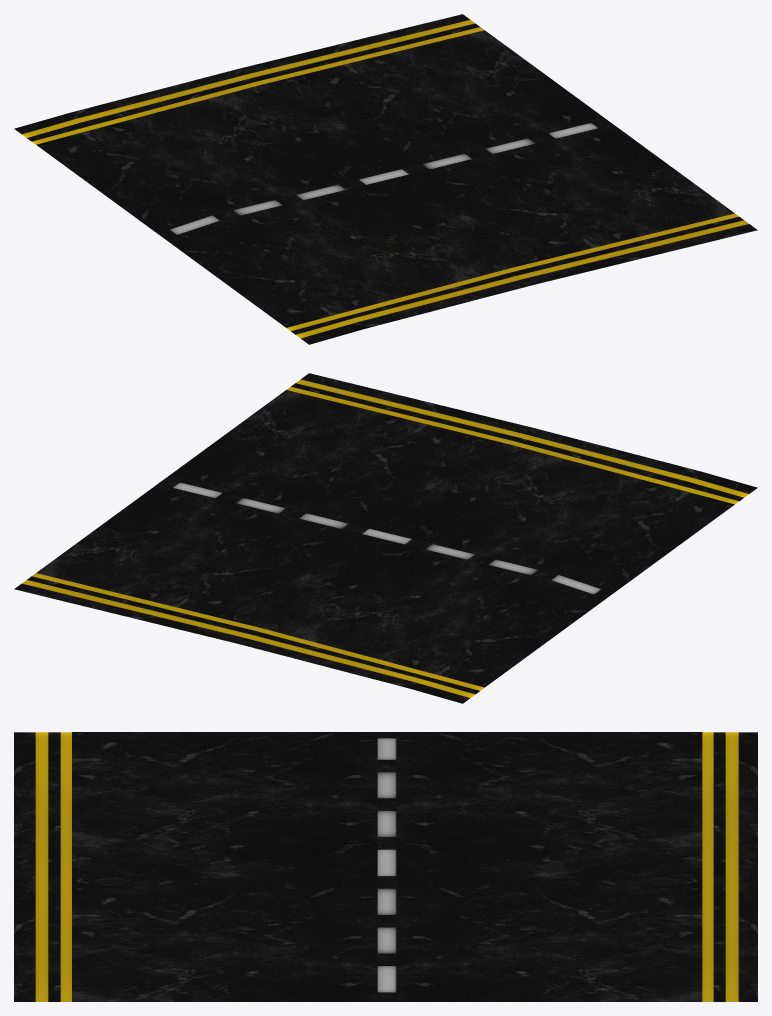
The model's file is Roadlane_horizontal.fbx.
3 views of the same model, one above another, from view 1: azimuth 30°, elevation 25°; view 2: azimuth 150°, elevation 25°; view 3: azimuth 270°, elevation 25° (orthographic). The views are drawn at different scales.
Parts seen in each view (by area): view 1: RoadLaneRight, RoadLaneLeft, DottedLines; view 2: RoadLaneLeft, RoadLaneRight, DottedLines; view 3: RoadLaneRight, RoadLaneLeft, DottedLines.
Part boxes in pixels (x1,y1,x2,y2): RoadLaneRight: (165,124,757,344); RoadLaneLeft: (14,14,605,233); DottedLines: (158,119,613,238); RoadLaneLeft: (14,484,605,703); RoadLaneRight: (165,373,757,593); DottedLines: (158,479,613,598); RoadLaneRight: (14,732,377,1001); RoadLaneLeft: (396,732,757,1001); DottedLines: (377,732,396,1001).
Size of the model in its own units: 701 by 7.67 by 799.
1 material, 1 textured.
